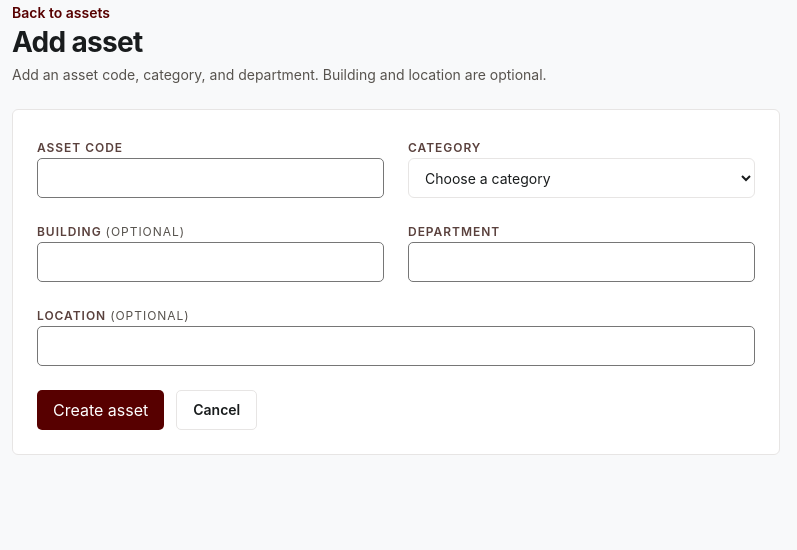
Test: AssetCreate feature component › handles backend 403 Forbidden response cleanly
The image size is (797, 550).
Type "FE-001" into the field labelled "Asset code". click: (210, 178)
box: [37,158,384,198]
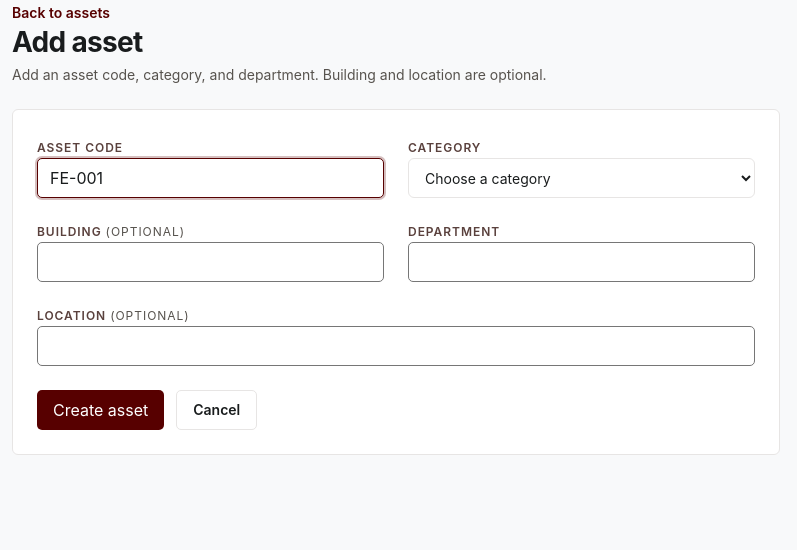
Select "Fire extinguishers" in the dropdown labelled "Category". click: (582, 178)
box: [408,158,755,198]
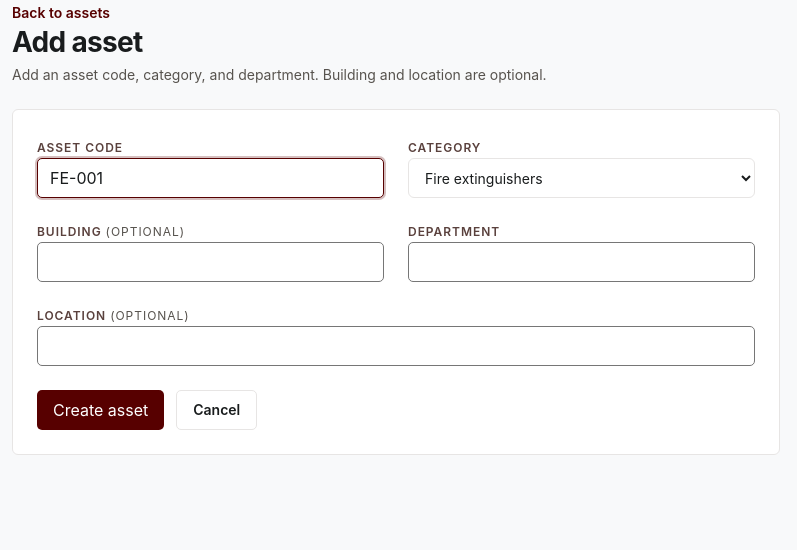
Type "GSD" into the field labelled "Department". click: (582, 262)
box: [408,242,755,282]
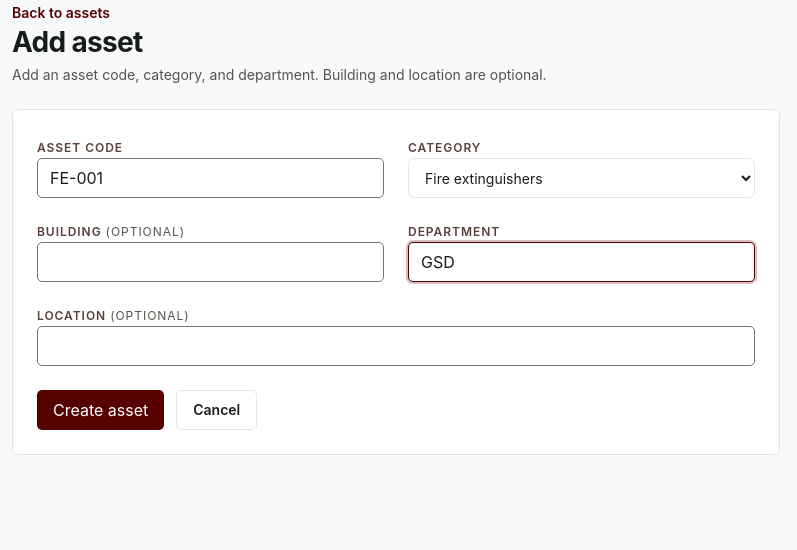
Click the button "Create asset". click: click(101, 410)
box: [37,390,164,430]
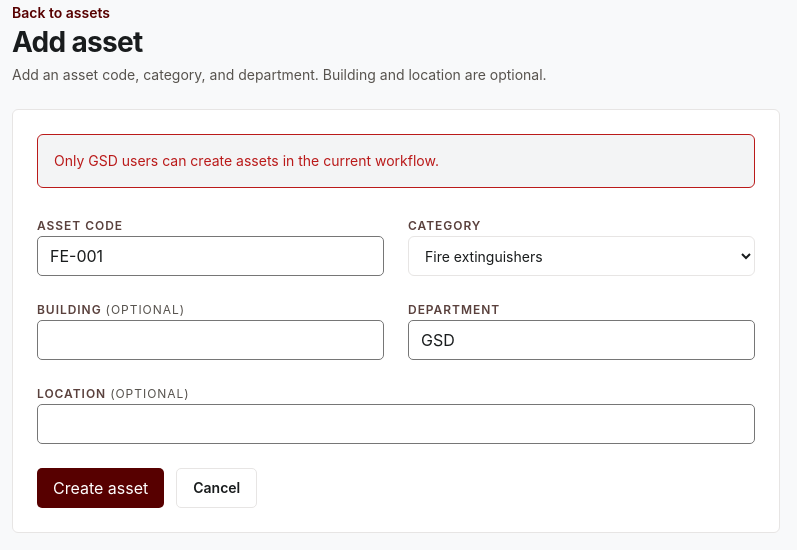
Result: the text "Only GSD users can create assets in the current workflow." is shown at [37,134,755,188]
